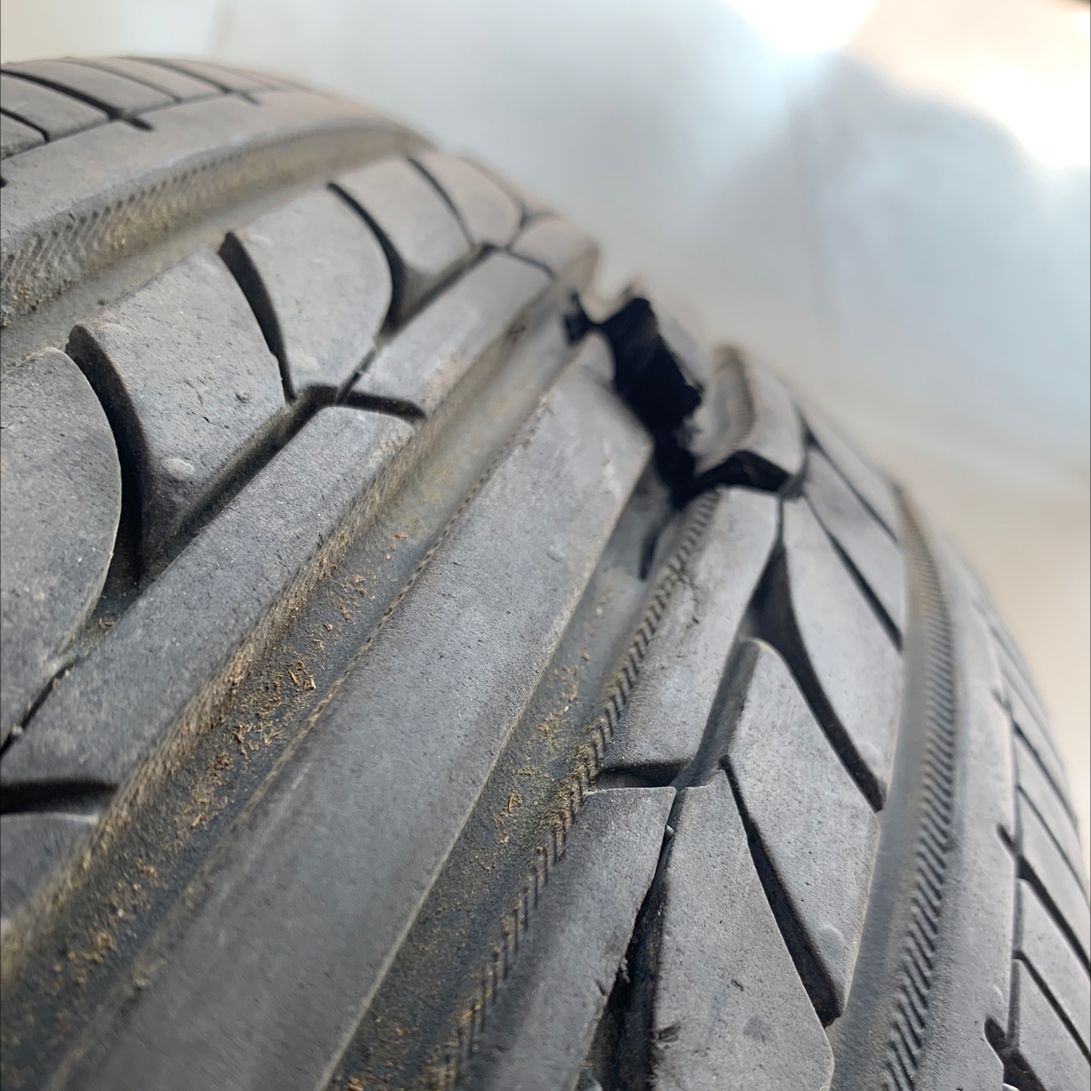tr: (554, 271, 817, 592)
